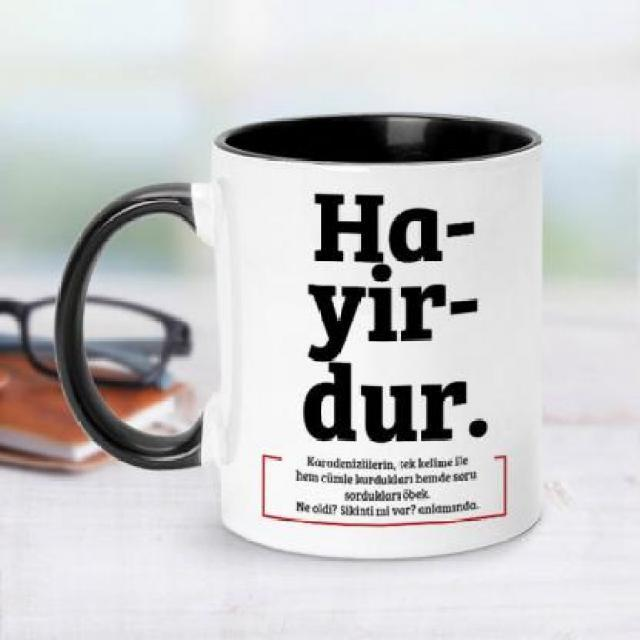taza: (49, 98, 557, 560)
